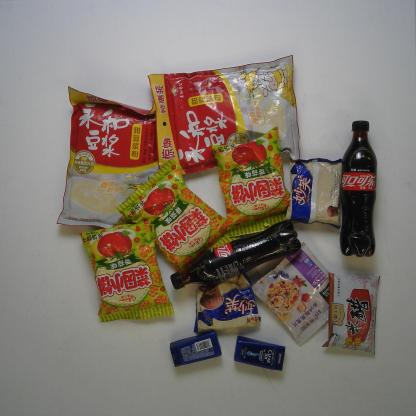Dessert: (286, 154, 349, 231), (190, 272, 263, 334)
Drink: (168, 216, 302, 292), (337, 118, 387, 260)
Instant Drink: (146, 53, 303, 177), (56, 81, 167, 231), (247, 238, 340, 348)
Personal Hygiene: (228, 330, 290, 372), (166, 329, 224, 369)
Puffed Food: (114, 158, 233, 276), (77, 214, 176, 324), (212, 122, 297, 239)
Seasoner: (321, 268, 386, 355)
